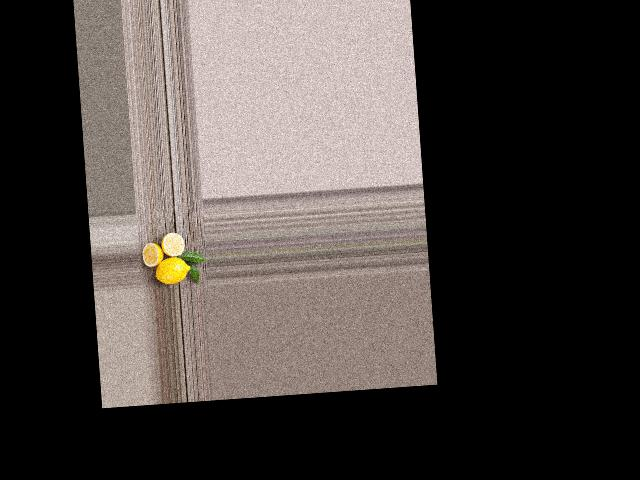lemon: (154, 254, 194, 283)
